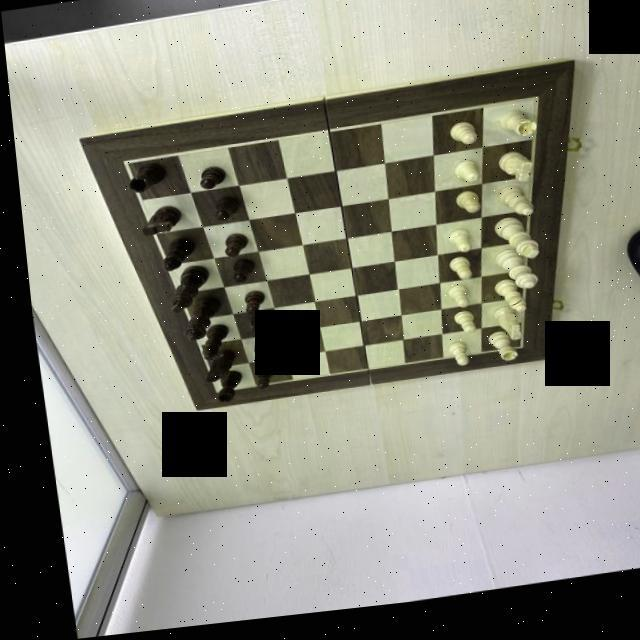chess-table-corners: (526, 106, 540, 118), (115, 160, 128, 172), (507, 354, 518, 360), (205, 394, 210, 398)
